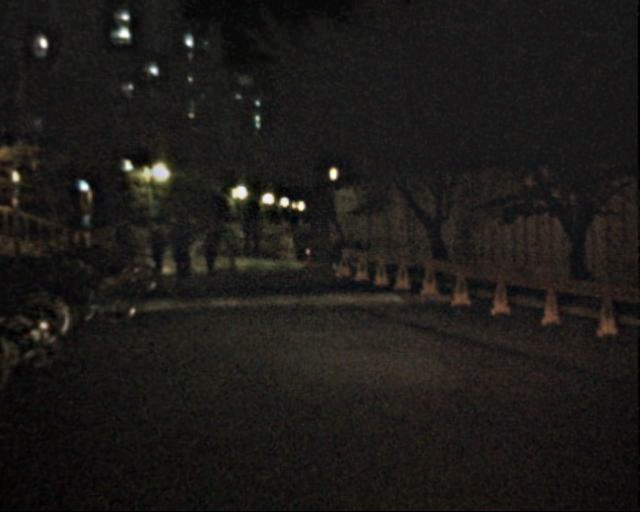person: (170, 220, 193, 276), (149, 222, 172, 277), (120, 215, 142, 269), (326, 222, 348, 275), (200, 225, 222, 278), (184, 215, 201, 257), (238, 218, 253, 255), (248, 220, 263, 257)
